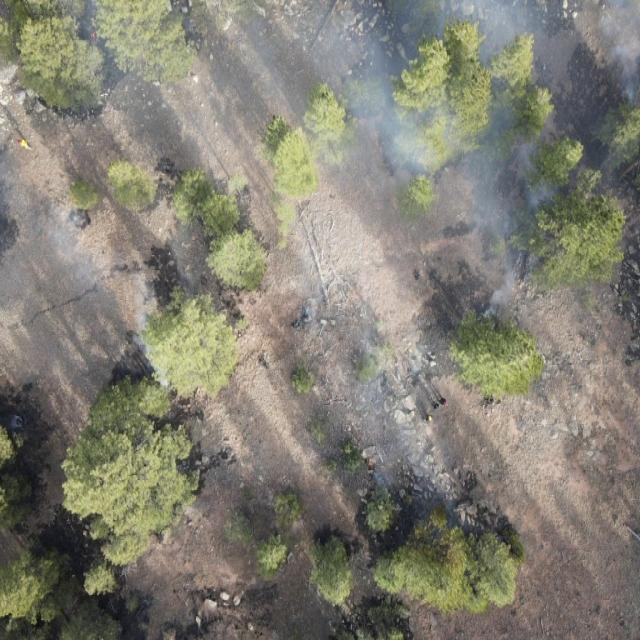fire: (87, 30, 101, 45)
smoke: (310, 1, 640, 315), (0, 160, 202, 400), (309, 310, 446, 492)
